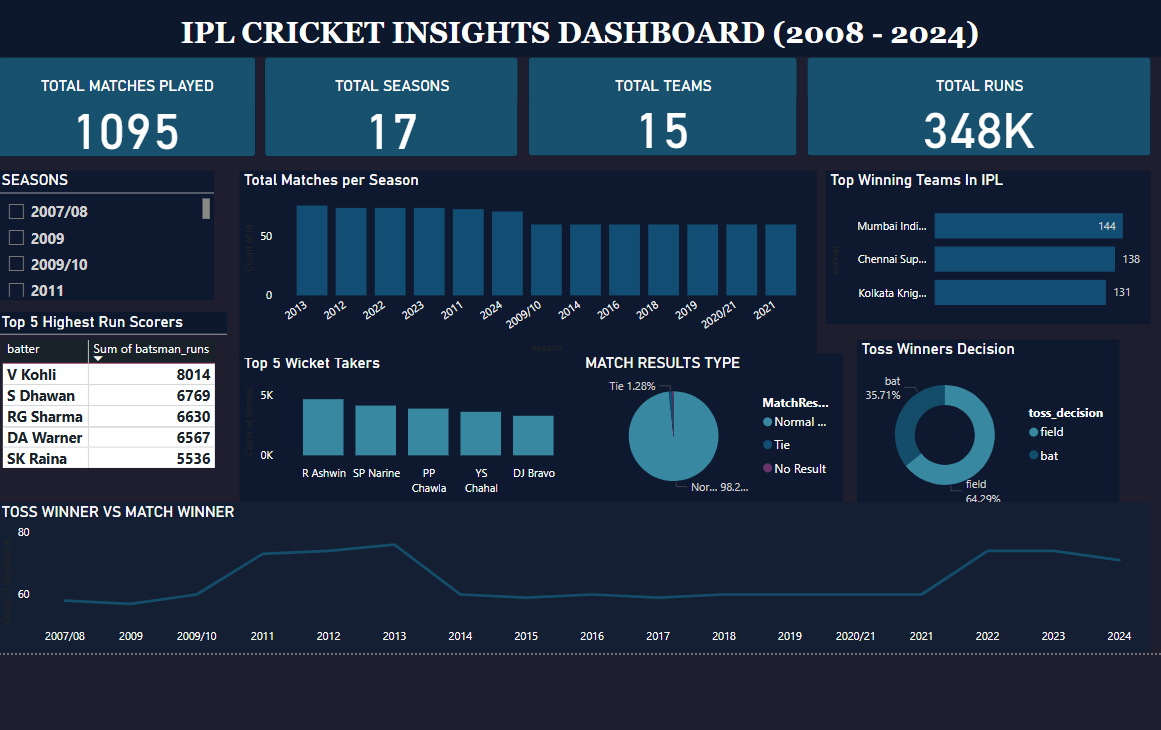

Layout of this report page (visuals, bound fields, positions):
{"tool":"powerbi","page":{"name":"Page 1","canvas":[1280,720],"ordinal":0},"visuals":[{"type":"card","title":"TOTAL MATCHES PLAYED","fields":{"Values":["matches.id"]},"box":[0,65.9,284,109.8],"z":0},{"type":"card","title":"TOTAL SEASONS","fields":{"Values":["matches.season"]},"box":[293.7,65.9,278.6,109.8],"z":1000},{"type":"card","title":"TOTAL RUNS","fields":{"Values":["deliveries.total_runs"]},"box":[889.2,65.9,377.4,108.4],"z":2000},{"type":"card","title":"TOTAL TEAMS","fields":{"Values":["matches.team1"]},"box":[583.2,65.9,295,108.4],"z":3000},{"type":"barChart","title":"Top Winning Teams In IPL","fields":{"Category":["matches.winner"],"Y":["matches.team1"]},"box":[909.8,190.7,356.8,168.8],"z":4000},{"type":"donutChart","title":"Toss Winners Decision","fields":{"Category":["matches.toss_decision"],"Y":["matches.toss_winner"]},"box":[944.1,376,288.2,190.7],"z":5000},{"type":"slicer","title":"SEASONS","fields":{"Values":["matches.season"]},"box":[0,190.7,238.8,142.7],"z":6000},{"type":"tableEx","title":"Top 5 Highest Run Scorers","fields":{"Values":["deliveries.batter","deliveries.batsman_runs"]},"box":[0,345.8,252.5,201.7],"z":7000},{"type":"columnChart","title":"Top 5 Wicket Takers","fields":{"Category":["deliveries.bowler"],"Y":["deliveries.dismissal_kind"]},"box":[266.2,391.1,374.6,163.3],"z":8000},{"type":"columnChart","title":"Total Matches per Season ","fields":{"Category":["matches.season"],"Y":["matches.id"]},"box":[266.2,190.7,634,205.8],"z":9000},{"type":"lineChart","title":"TOSS WINNER VS MATCH WINNER","fields":{"Y":["matches.TossMatchWin"],"Category":["matches.season"]},"box":[0,554.4,1266.6,166],"z":10000},{"type":"pieChart","title":"MATCH RESULTS TYPE","fields":{"Y":["matches.id"],"Category":["matches.MatchResultType"]},"box":[640.8,391.1,288.2,163.3],"z":11000},{"type":"textbox","box":[0,0,1280.3,65.9],"z":12000}]}

Visuals, with their boxes on the page's 1280x720 design canvas (x1, y1, x2, y2). These are canvas units, not pixel positions in the 1161x730 screenshot, which may show the page scaled, cropped or inside an application window:
"TOTAL MATCHES PLAYED" card: (0, 66, 284, 176)
"TOTAL SEASONS" card: (294, 66, 572, 176)
"TOTAL RUNS" card: (889, 66, 1267, 174)
"TOTAL TEAMS" card: (583, 66, 878, 174)
"Top Winning Teams In IPL" barChart: (910, 191, 1267, 360)
"Toss Winners Decision" donutChart: (944, 376, 1232, 567)
"SEASONS" slicer: (0, 191, 239, 333)
"Top 5 Highest Run Scorers" tableEx: (0, 346, 252, 548)
"Top 5 Wicket Takers" columnChart: (266, 391, 641, 554)
"Total Matches per Season " columnChart: (266, 191, 900, 396)
"TOSS WINNER VS MATCH WINNER" lineChart: (0, 554, 1267, 720)
"MATCH RESULTS TYPE" pieChart: (641, 391, 929, 554)
textbox: (0, 0, 1280, 66)
